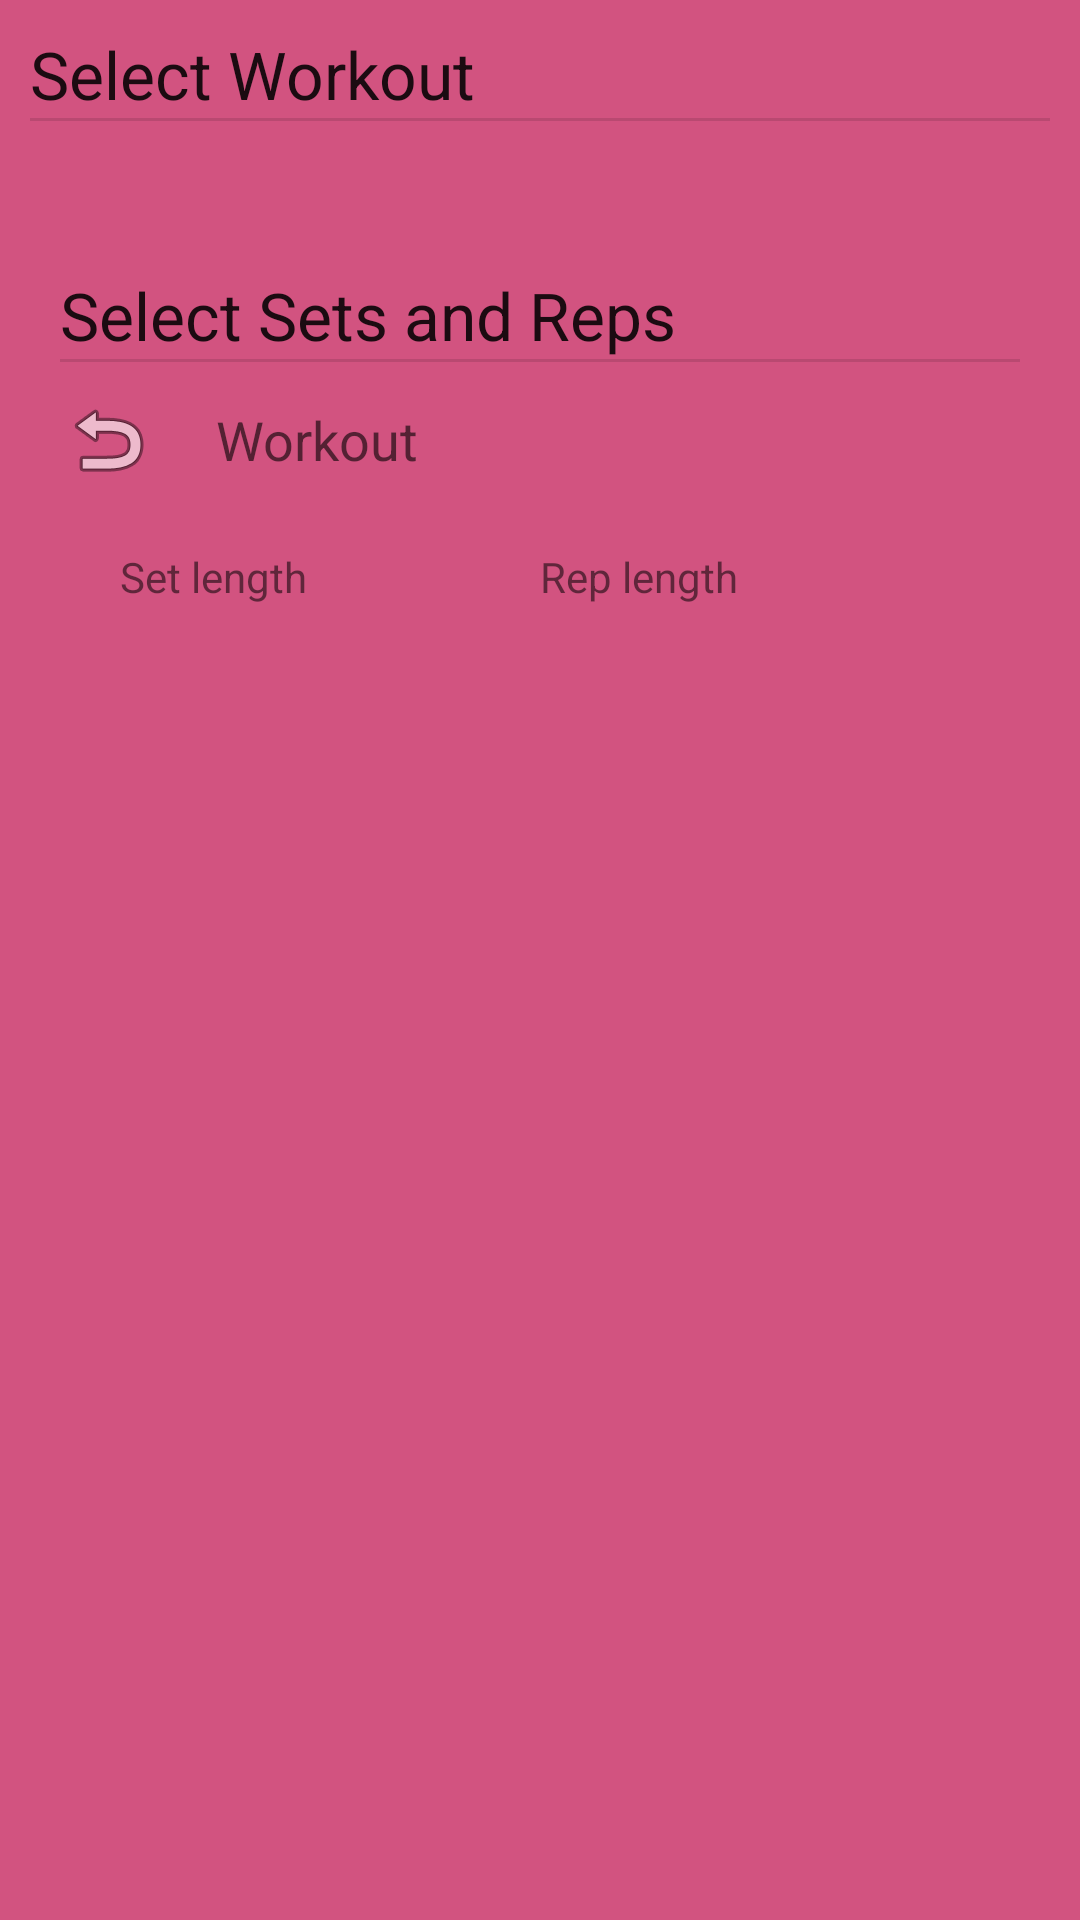

Icons on this 1080x1920 Android screen, each with the point to tap as point (x, y):
revert: point (109, 440)
